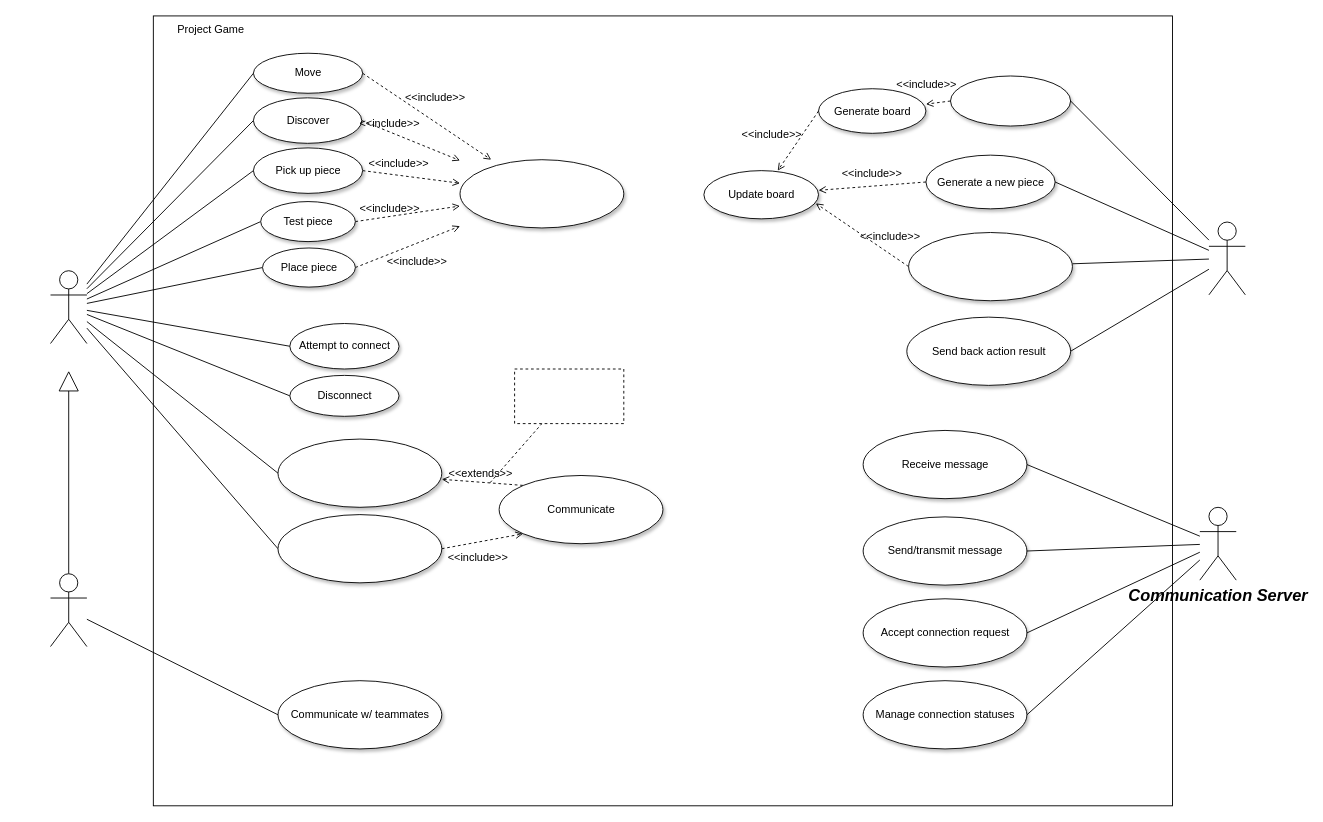
This 1323x822 diagram has some shape labels left out. The centre of each missing label's shape, as x and y in pixels:
Accept communication request: the point at 360,549
Begin game: the point at 1011,101
Game Master: the point at 1226,258
Other player accepted request: the point at 569,396
Player: the point at 68,307
Receive action request: the point at 991,267
Request communication: the point at 360,474
Send action request: the point at 542,194
Team Captain: the point at 68,610
